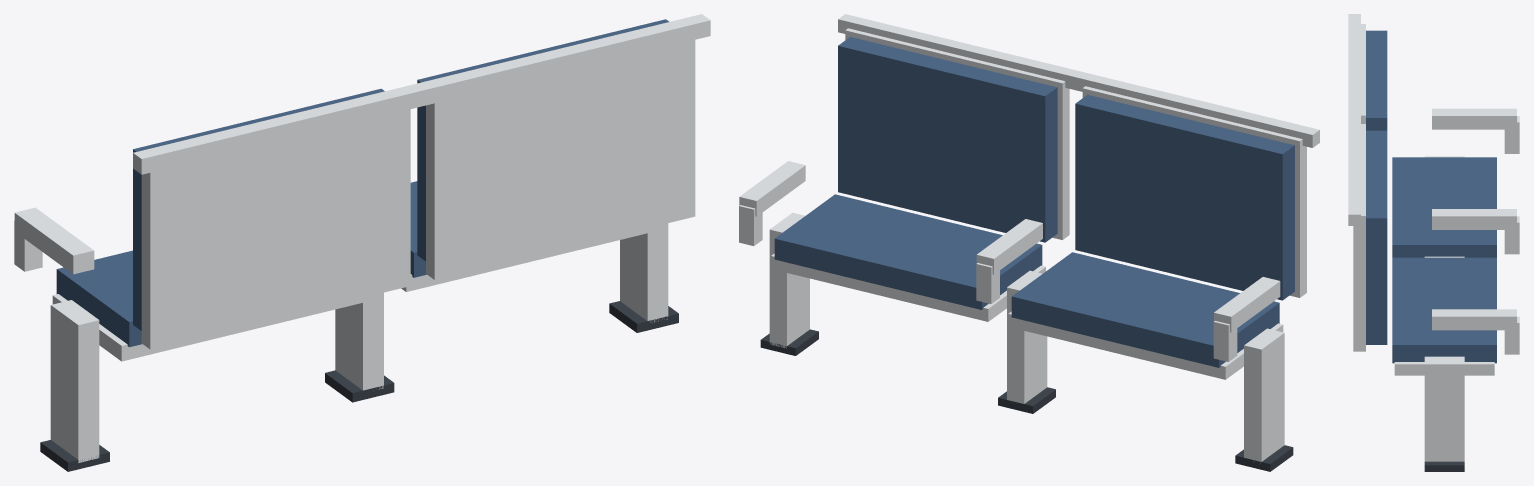
Rendered from bench.glb.
3 renders of one model, left to right at view 1: azimuth 30°, elevation 25°; view 2: azimuth 150°, elevation 25°; view 3: azimuth 270°, elevation 25°, orthographic. The views are drawn at different scales.
Parts seen in each view (by area): view 1: Bench; view 2: Bench; view 3: Bench.
Part boxes in pixels (x1=…): Bench: x1=14, y1=14, x2=710, y2=471; Bench: x1=739, y1=14, x2=1319, y2=471; Bench: x1=1348, y1=14, x2=1519, y2=471.
Bounding box in the file's own units: 2.04 × 1.11 × 0.685.
